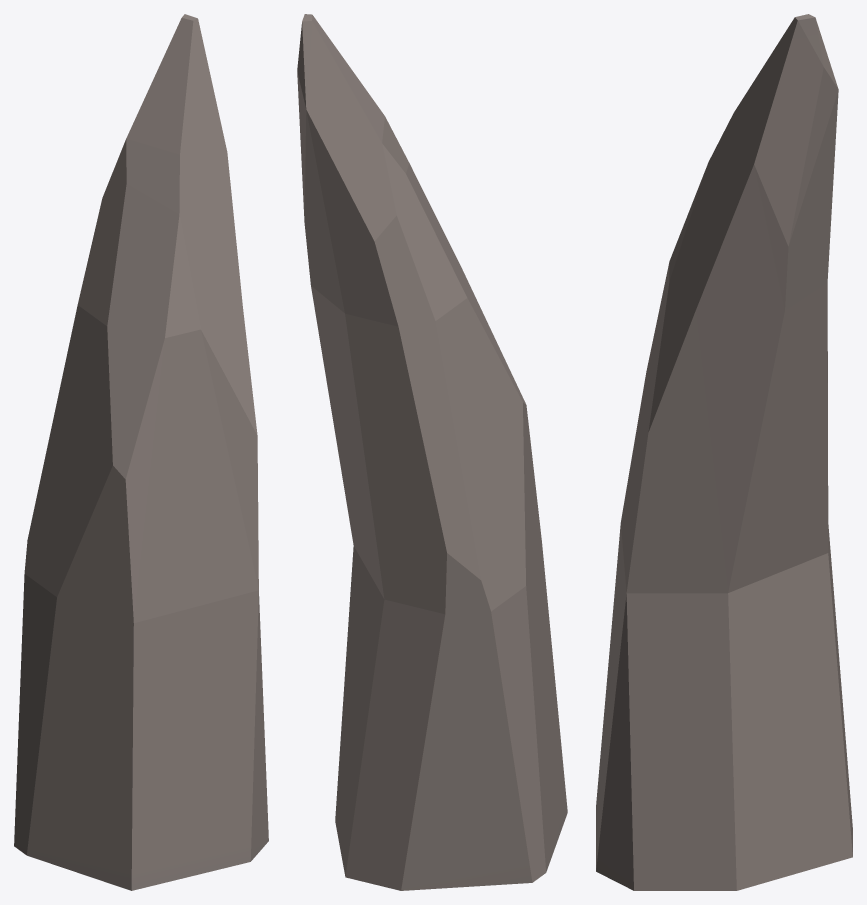
File: Rock_Sharp_m_07.fbx
The picture shows the model from 3 angles, left to right: view 1: azimuth 30°, elevation 25°; view 2: azimuth 150°, elevation 25°; view 3: azimuth 270°, elevation 25°; orthographic projection. The views are drawn at different scales.
Visible parts, largest first — view 1: Rock_Sharp_m_07; view 2: Rock_Sharp_m_07; view 3: Rock_Sharp_m_07.
Boxes of the visible parts, x1=… form: Rock_Sharp_m_07: x1=14, y1=14, x2=268, y2=890; Rock_Sharp_m_07: x1=297, y1=14, x2=567, y2=890; Rock_Sharp_m_07: x1=596, y1=14, x2=852, y2=890.
Size of the model in its own units: 52.92 by 187 by 50.01.
